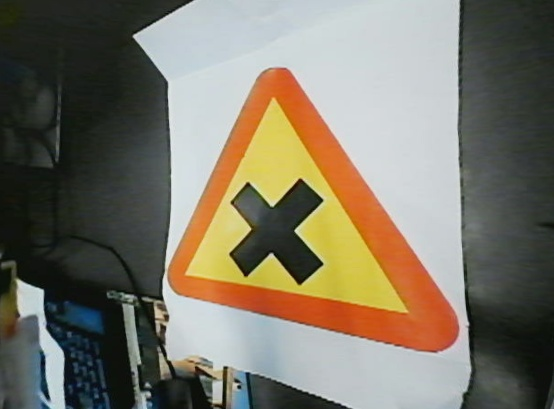junction: (128, 46, 466, 361)
